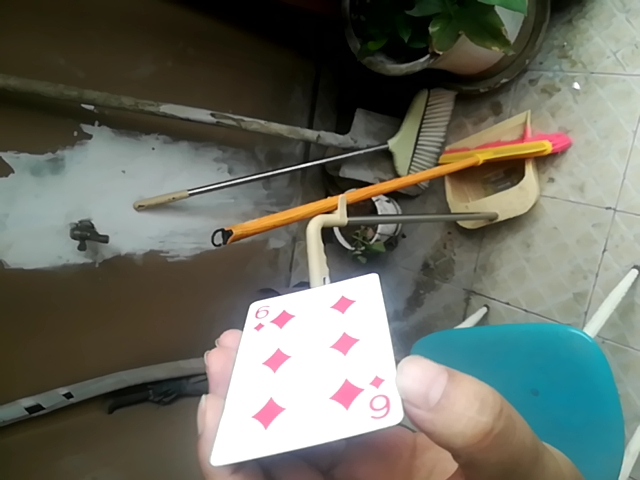fk 6: (209, 269, 399, 466)
